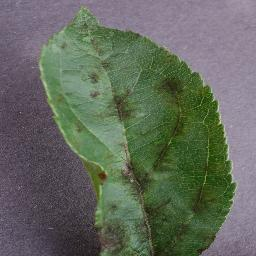apple healthy: (37, 4, 237, 255)
